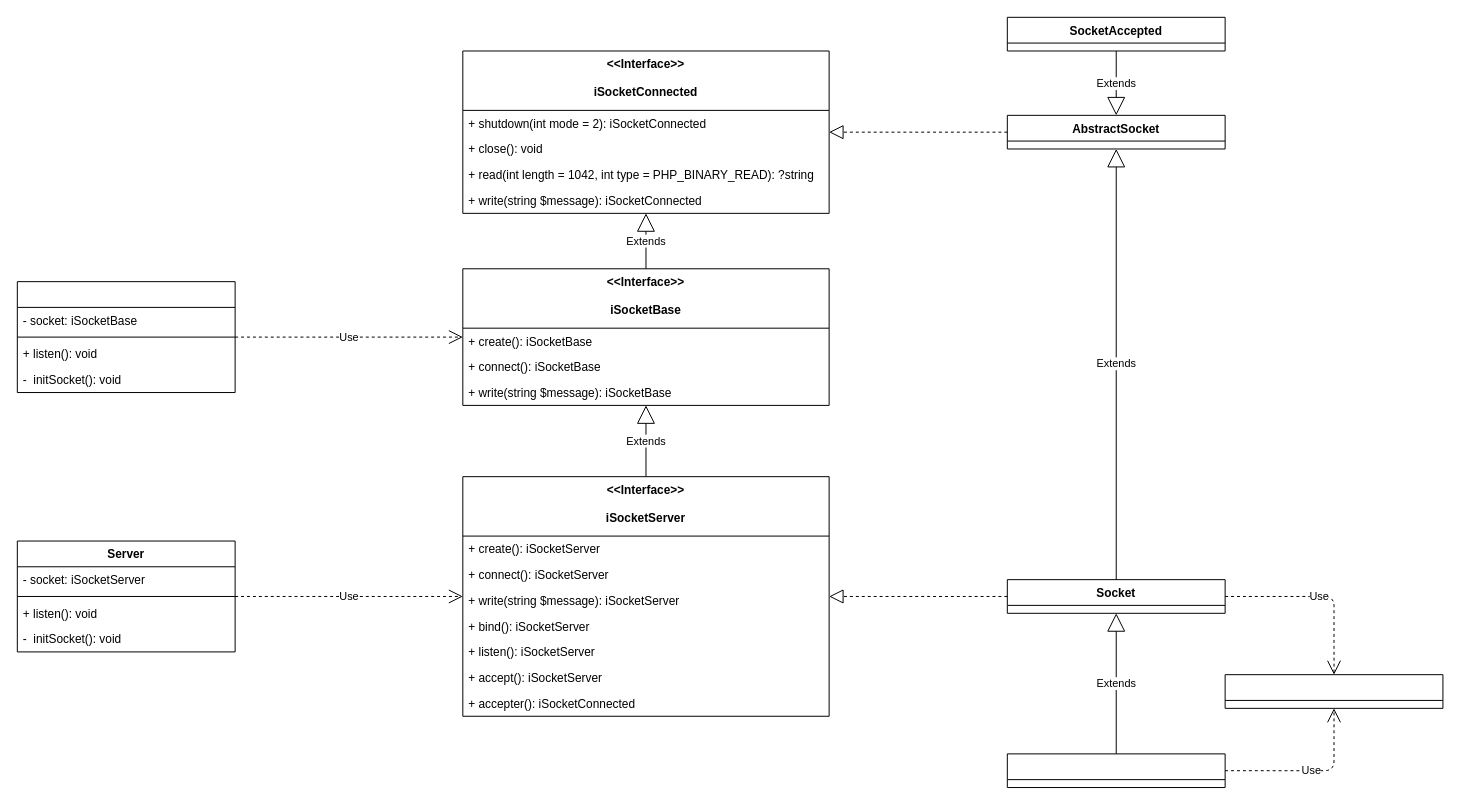
Image size: 1460x805. Some labels were removed from this diagram. Each missing label, with the box of its shape:
Client: (16, 281, 235, 393)
SocketConfig: (1224, 674, 1443, 708)
UnixSocket: (1006, 753, 1225, 788)
